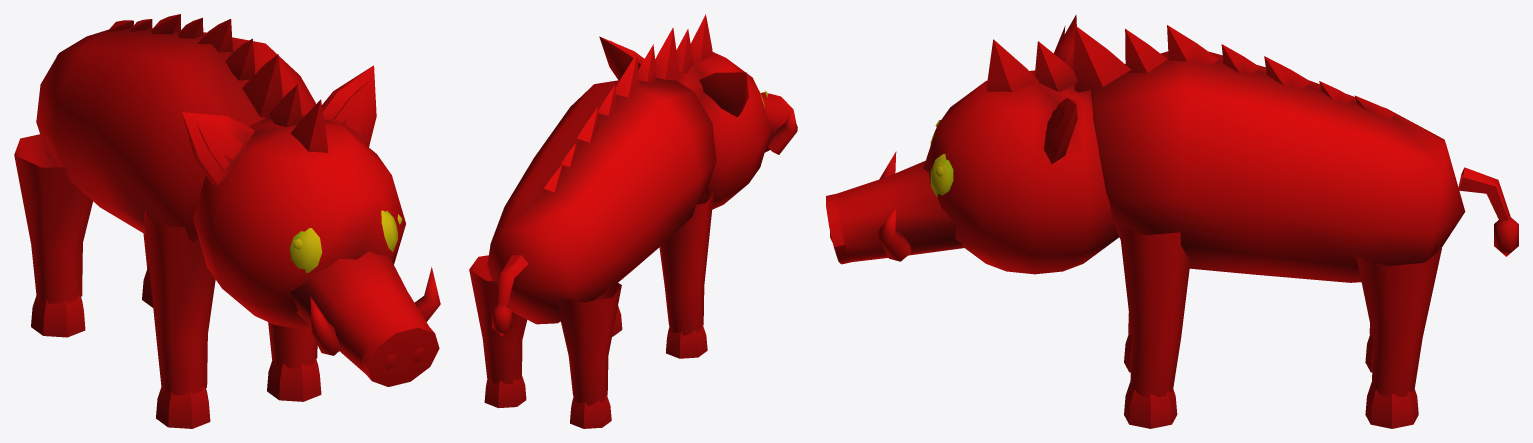
Rendered from BoarAnimal.glb.
3 views of the same model, side by side, from view 1: azimuth 30°, elevation 25°; view 2: azimuth 150°, elevation 25°; view 3: azimuth 270°, elevation 25° (orthographic). The views are drawn at different scales.
Visible parts, largest first — view 1: BoarAnimal; view 2: BoarAnimal; view 3: BoarAnimal.
Part boxes in pixels (<box>): BoarAnimal: <box>14,14,440,428</box>; BoarAnimal: <box>469,14,797,428</box>; BoarAnimal: <box>826,14,1518,428</box>.
Size of the model in its own units: 0.2663 by 0.5024 by 0.8608.
